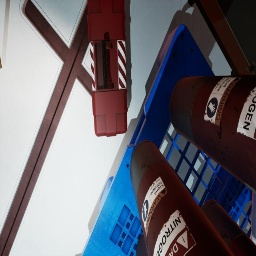0: (250, 190, 256, 245)
FirstAidBox ,: (87, 0, 128, 137)
NitrogenTank ,: (130, 140, 234, 256), (169, 74, 256, 194), (200, 199, 256, 256), (136, 233, 148, 256)
